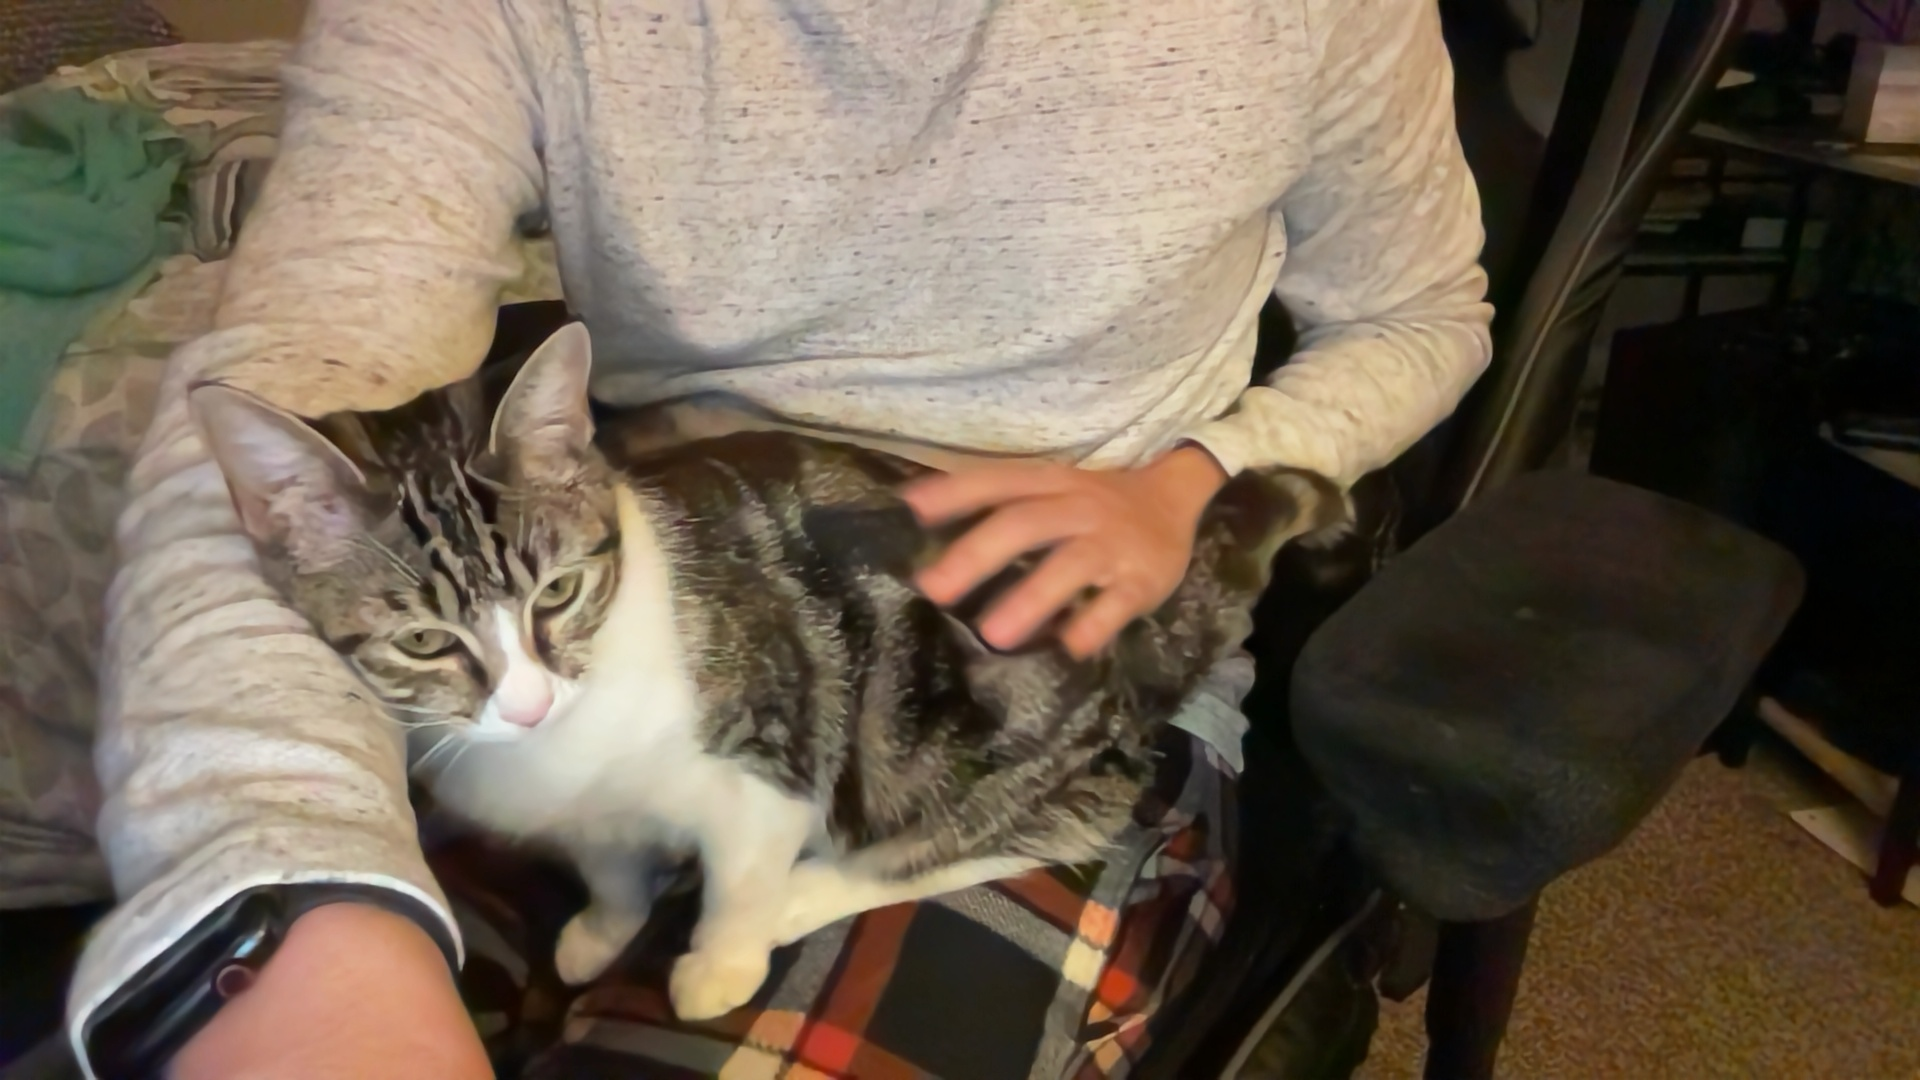cat: (190, 345, 1307, 1030)
